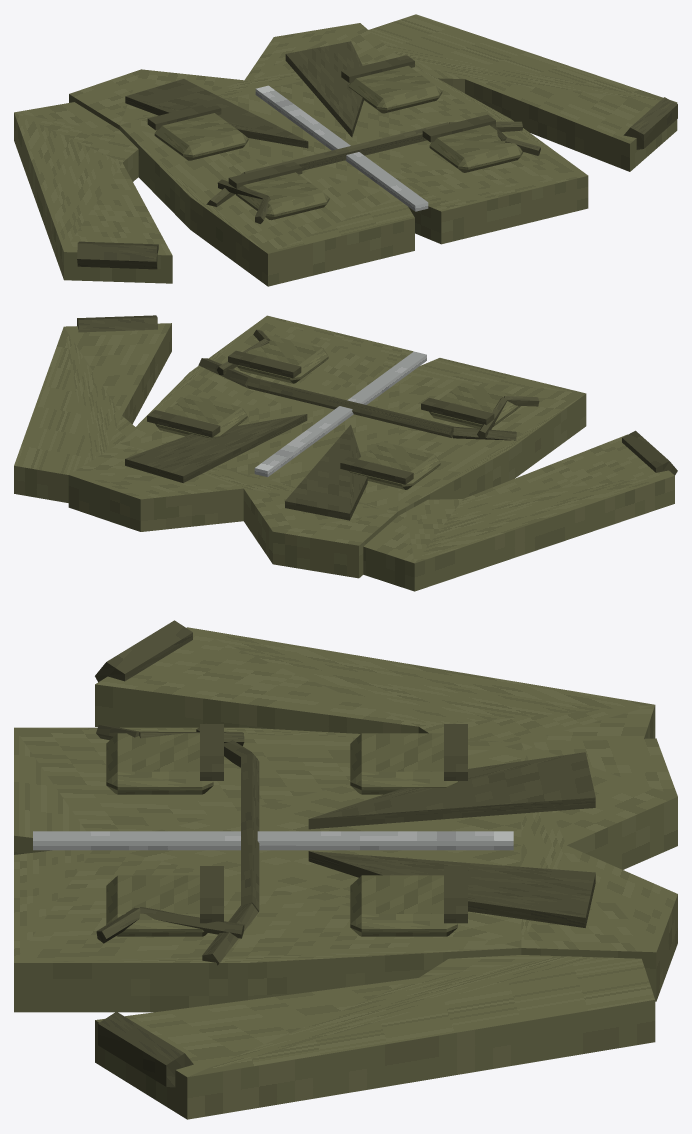
File: jacket_army.glb
The picture shows the model from 3 angles, top to bottom: view 1: azimuth 30°, elevation 25°; view 2: azimuth 150°, elevation 25°; view 3: azimuth 270°, elevation 25°; orthographic projection. The views are drawn at different scales.
Visible parts, largest first — view 1: block_coat body, block_sleeve (×2), block_patch pocket (×4), block_lapel (×2), block_cuff 0 (×2), block_pocket welt (×4), block_zipper track, block_waist drawstring 1; view 2: block_coat body, block_sleeve (×2), block_lapel (×2), block_patch pocket (×4), block_pocket welt (×4), block_zipper track, block_waist drawstring 1, block_cuff 0 (×2), block_waist drawstring 0, block_waist drawstring 2; view 3: block_coat body, block_sleeve (×2), block_patch pocket (×4), block_lapel (×2), block_zipper track, block_cuff 0 (×2), block_pocket welt (×4), block_waist drawstring 1, block_drawstring end 0, block_waist drawstring 2.
Boxes of the visible parts, left/top/right/bottom form: block_coat body: left=69, top=23, right=588, bottom=286; block_sleeve (×2): left=14, top=14, right=677, bottom=283; block_patch pocket (×4): left=154, top=65, right=523, bottom=220; block_lapel (×2): left=125, top=41, right=363, bottom=148; block_cuff 0 (×2): left=77, top=97, right=677, bottom=269; block_pocket welt (×4): left=147, top=55, right=495, bottom=188; block_zipper track: left=255, top=85, right=428, bottom=211; block_waist drawstring 1: left=244, top=122, right=448, bottom=173; block_coat body: left=68, top=315, right=586, bottom=578; block_sleeve (×2): left=14, top=323, right=674, bottom=591; block_lapel (×2): left=125, top=414, right=367, bottom=520; block_patch pocket (×4): left=155, top=335, right=520, bottom=489; block_pocket welt (×4): left=147, top=350, right=494, bottom=484; block_zipper track: left=254, top=351, right=426, bottom=477; block_waist drawstring 1: left=247, top=377, right=454, bottom=437; block_cuff 0 (×2): left=77, top=315, right=677, bottom=475; block_waist drawstring 0: left=453, top=427, right=516, bottom=440; block_waist drawstring 2: left=198, top=358, right=252, bottom=388; block_coat body: left=14, top=727, right=677, bottom=1012; block_sleeve (×2): left=95, top=627, right=655, bottom=1119; block_patch pocket (×4): left=106, top=733, right=457, bottom=936; block_lapel (×2): left=308, top=752, right=595, bottom=927; block_zipper track: left=33, top=831, right=513, bottom=850; block_cuff 0 (×2): left=95, top=620, right=193, bottom=1087; block_pocket welt (×4): left=200, top=724, right=467, bottom=923; block_waist drawstring 1: left=241, top=753, right=259, bottom=911; block_drawstring end 0: left=140, top=907, right=244, bottom=938; block_waist drawstring 2: left=202, top=903, right=258, bottom=965.
Size of the model in its own units: 0.6851 by 0.0537 by 0.4272.
Materials: 1 (1 with a texture image).
